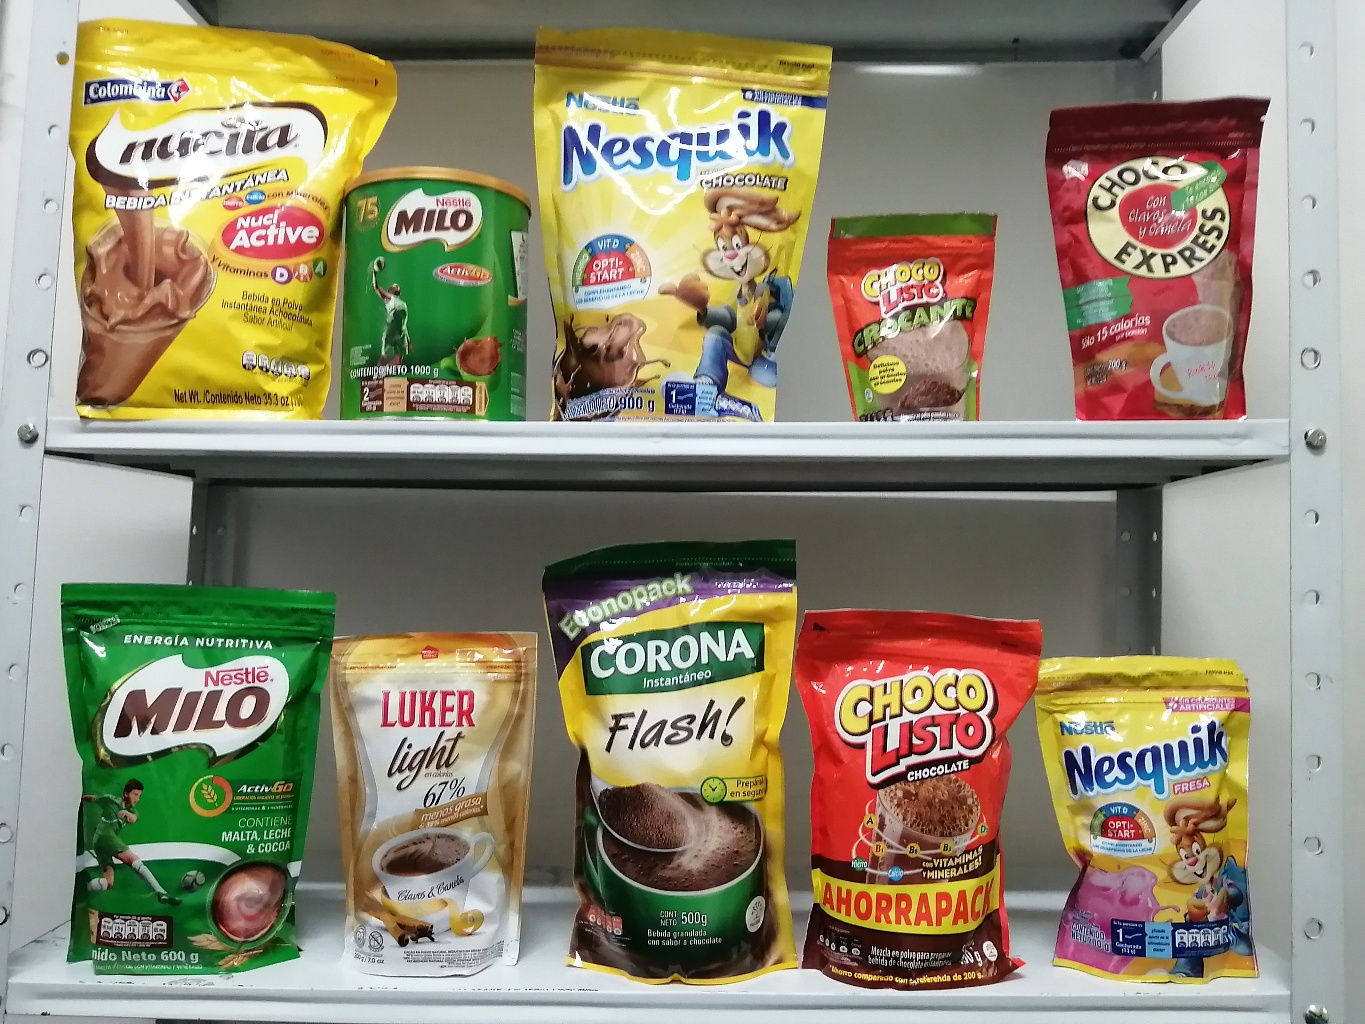COL0170102DYP10000: (804, 187, 1022, 438)
COL0170103DYP40000: (790, 575, 1046, 1011)
COL0170305DYP20000: (986, 616, 1283, 1000)
